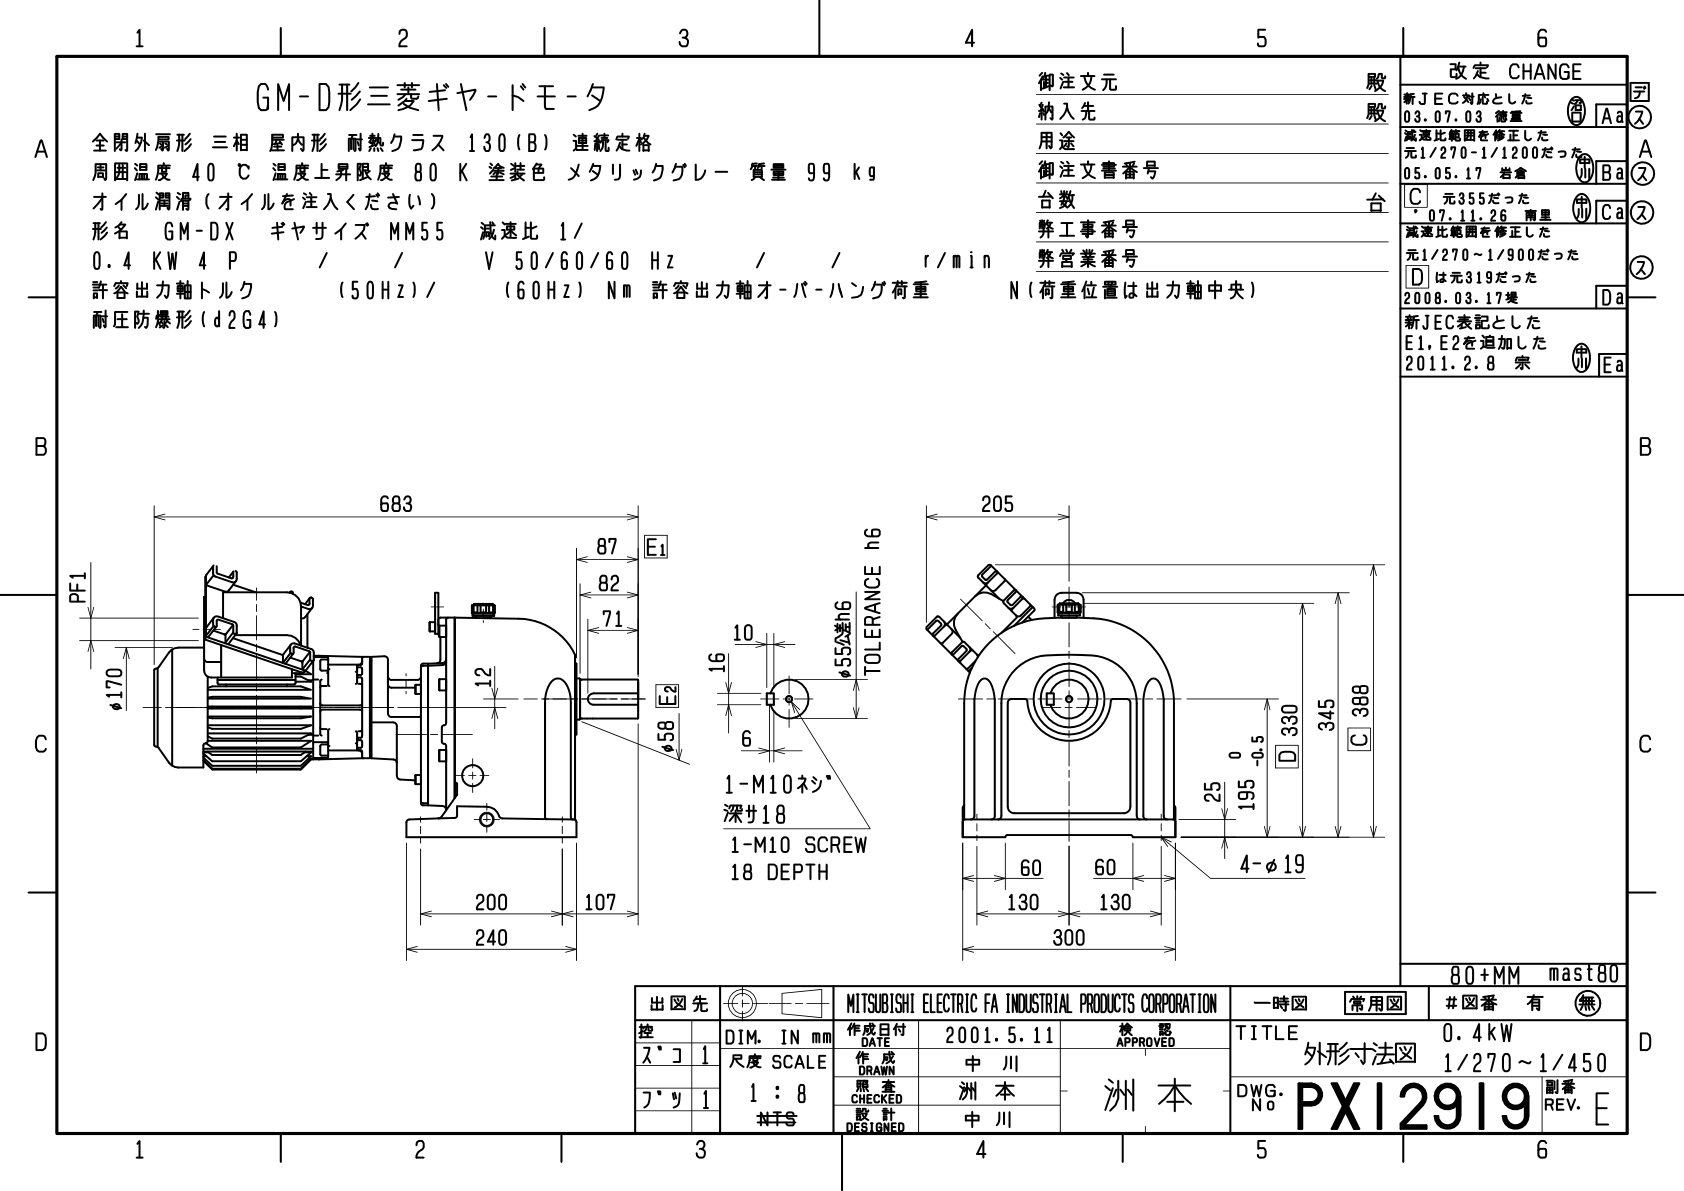GM_D_耐圧屋内_三相_脚: (1, 1, 1669, 1179)
